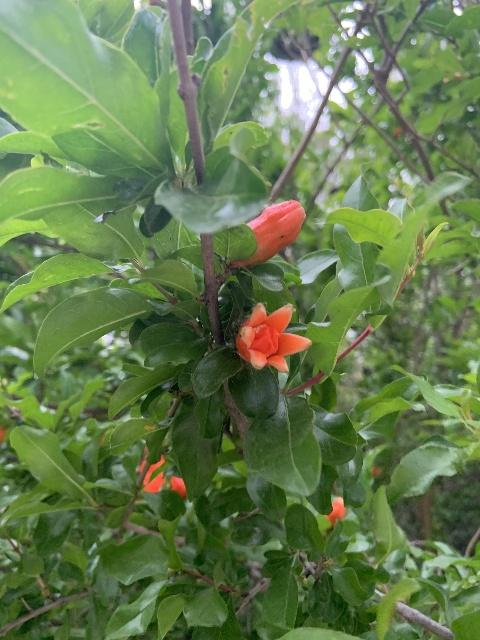bud: (231, 199, 305, 268), (325, 496, 345, 530)
flower: (236, 302, 312, 373), (139, 450, 186, 498)
